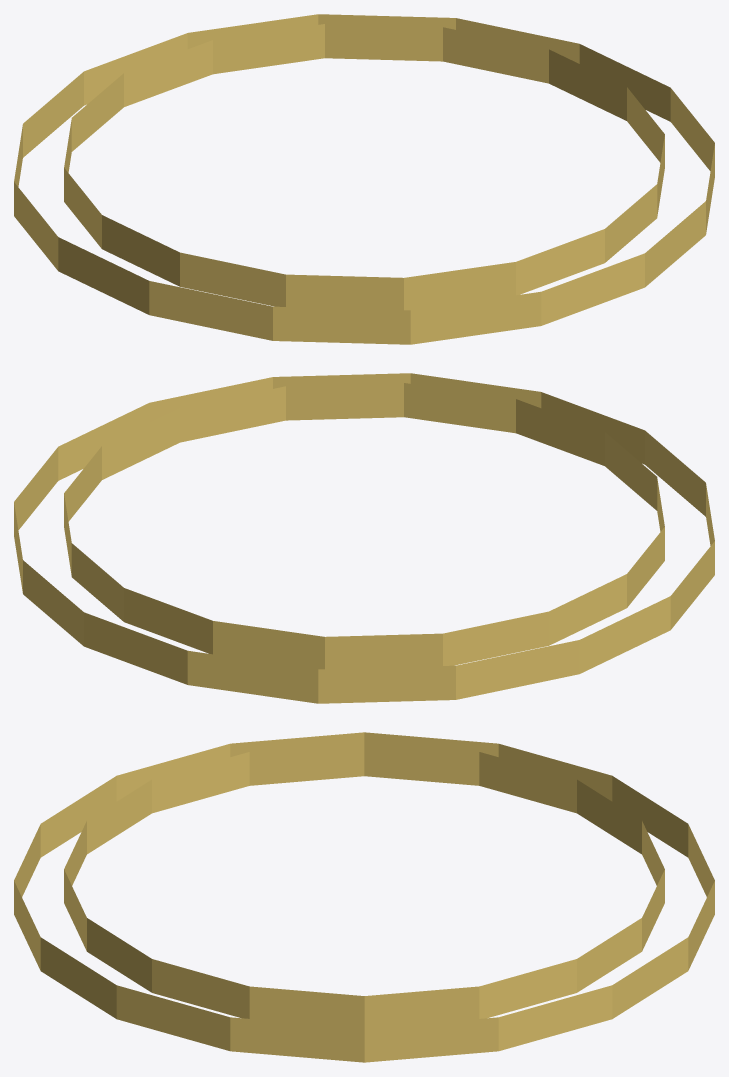
File: acc_halo.glb
3 renders of one model, top to bottom at view 1: azimuth 30°, elevation 25°; view 2: azimuth 150°, elevation 25°; view 3: azimuth 270°, elevation 25°, orthographic.
Visible parts, largest first — view 1: acc_halo; view 2: acc_halo; view 3: acc_halo.
Part boxes in pixels (<box>): acc_halo: <box>14,14,714,344</box>; acc_halo: <box>14,373,714,703</box>; acc_halo: <box>14,732,714,1062</box>.
Size of the model in its own units: 0.28 by 0.02 by 0.28.
